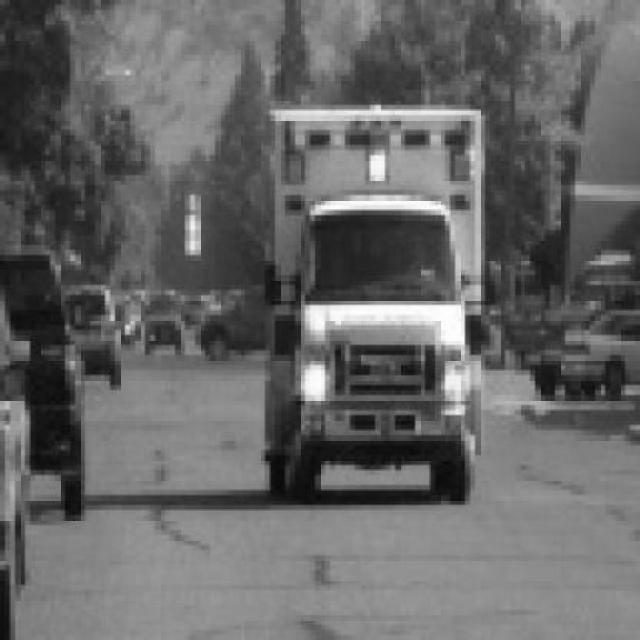Ambulance: (263, 106, 501, 504)
